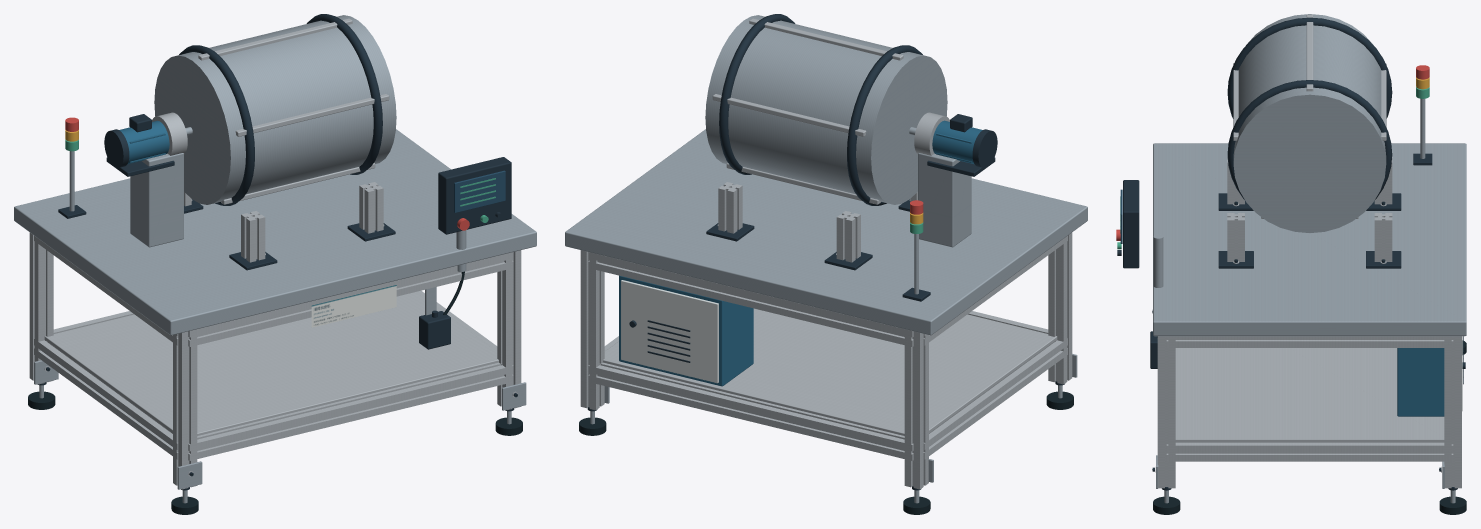
File: produce-peeler-cell.glb
3 renders of one model, left to right at view 1: azimuth 30°, elevation 25°; view 2: azimuth 150°, elevation 25°; view 3: azimuth 270°, elevation 25°, orthographic.
Parts seen in each view (by area): view 1: ClosedMachineBed_40, LowerShelf_41, DrumShell_91, SlottedExtrusion_34, SlottedExtrusion_35, DrumDriveStand_111, SlottedExtrusion_11, SlottedExtrusion_36, SlottedExtrusion_27, ConsoleBack_52, SlottedExtrusion_3, OriginalNameplate_65 (+14 smaller); view 2: ClosedMachineBed_40, DrumShell_91, LowerShelf_41, BackDoor_43, SlottedExtrusion_32, SlottedExtrusion_33, DrumDriveStand_111, SlottedExtrusion_3, SlottedExtrusion_19, Cabinet_42, SlottedExtrusion_36, SlottedExtrusion_11 (+11 smaller); view 3: ClosedMachineBed_40, DrumShell_91, LowerShelf_41, SlottedExtrusion_38, SlottedExtrusion_39, Cabinet_42, SlottedExtrusion_27, SlottedExtrusion_19, DrumBand_93, DrumBand_92, ConsoleBack_52, SlottedExtrusion_81 (+7 smaller).
Part boxes in pixels (box(x1,y1,x2,y2)): ClosedMachineBed_40: box(14, 129, 536, 335); LowerShelf_41: box(44, 292, 498, 435); DrumShell_91: box(154, 15, 396, 204); SlottedExtrusion_34: box(188, 362, 513, 460); SlottedExtrusion_35: box(188, 252, 513, 346); DrumDriveStand_111: box(130, 153, 183, 247); SlottedExtrusion_11: box(173, 329, 197, 489); SlottedExtrusion_36: box(34, 338, 178, 459); SlottedExtrusion_27: box(497, 250, 521, 410); ConsoleBack_52: box(438, 157, 511, 234); SlottedExtrusion_3: box(29, 232, 53, 384); OriginalNameplate_65: box(311, 285, 396, 327); ClosedMachineBed_40: box(565, 129, 1087, 335); DrumShell_91: box(705, 15, 947, 204); LowerShelf_41: box(603, 308, 1057, 435); BackDoor_43: box(621, 280, 718, 383); SlottedExtrusion_32: box(588, 362, 913, 460); SlottedExtrusion_33: box(588, 252, 913, 346); DrumDriveStand_111: box(918, 153, 971, 247); SlottedExtrusion_3: box(904, 329, 928, 489); SlottedExtrusion_19: box(580, 250, 604, 410); Cabinet_42: box(619, 275, 753, 386); SlottedExtrusion_36: box(923, 338, 1067, 459); SlottedExtrusion_11: box(1048, 232, 1072, 384); ClosedMachineBed_40: box(1153, 143, 1466, 336); DrumShell_91: box(1233, 14, 1386, 232); LowerShelf_41: box(1175, 348, 1444, 442); SlottedExtrusion_38: box(1166, 442, 1453, 461); SlottedExtrusion_39: box(1166, 336, 1453, 347); Cabinet_42: box(1397, 348, 1444, 416); SlottedExtrusion_27: box(1157, 336, 1175, 488); SlottedExtrusion_19: box(1444, 336, 1461, 488); DrumBand_93: box(1227, 80, 1392, 200); DrumBand_92: box(1227, 17, 1392, 118); ConsoleBack_52: box(1123, 180, 1139, 268); SlottedExtrusion_81: box(1374, 213, 1392, 261).
Size of the model in its own units: 1.55 by 1.54 by 1.29.
Materials: 11 (3 with a texture image).
